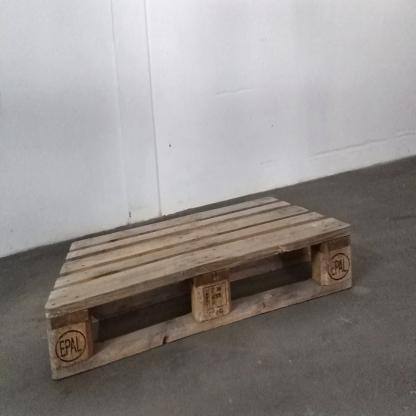BoxFace: (42, 191, 355, 386)
